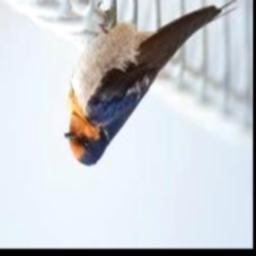Swallow: (64, 0, 239, 166)
